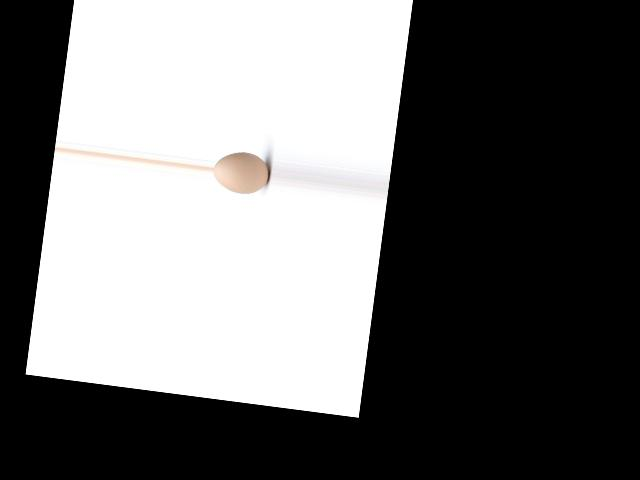egg: (211, 149, 271, 196)
